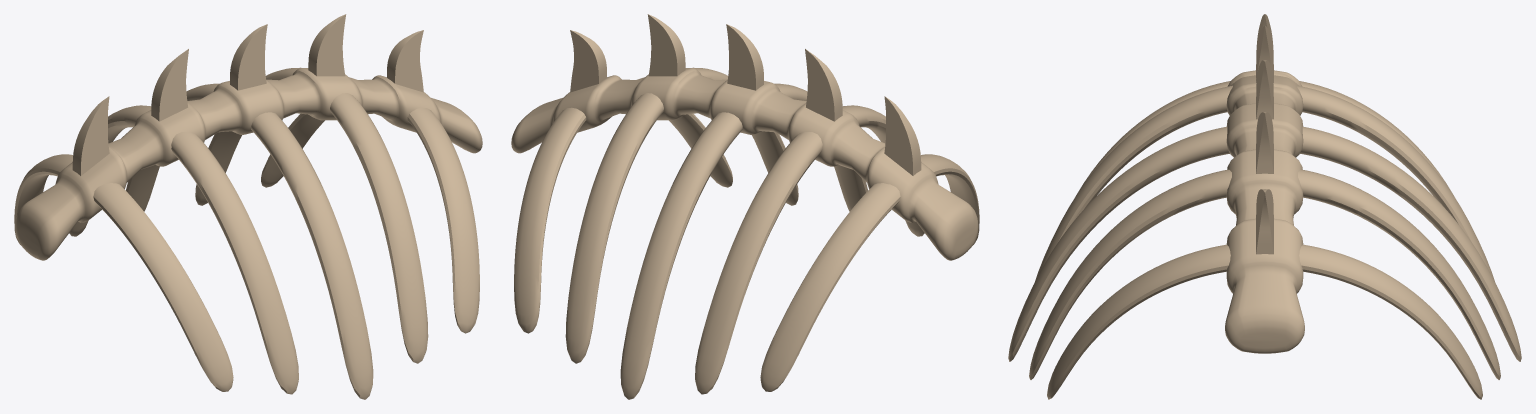
File: Ribcage.fbx
3 views of the same model, side by side, from view 1: azimuth 30°, elevation 25°; view 2: azimuth 150°, elevation 25°; view 3: azimuth 270°, elevation 25° (orthographic). The views are drawn at different scales.
Visible parts, largest first — view 1: Ribs; view 2: Ribs; view 3: Ribs.
Part boxes in pixels (x1,y1,x2,y2): Ribs: (14,14,482,399); Ribs: (511,14,979,399); Ribs: (1008,14,1521,399).
Size of the model in its own units: 2892 by 2684 by 1793.
